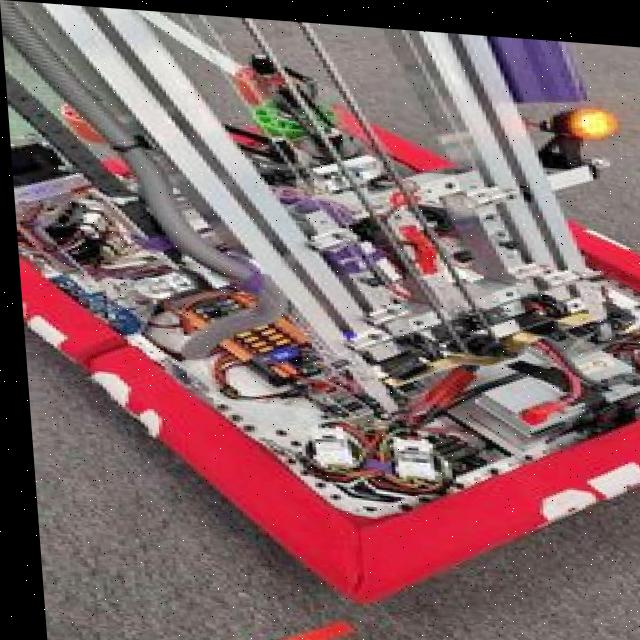robot: (0, 0, 640, 624)
